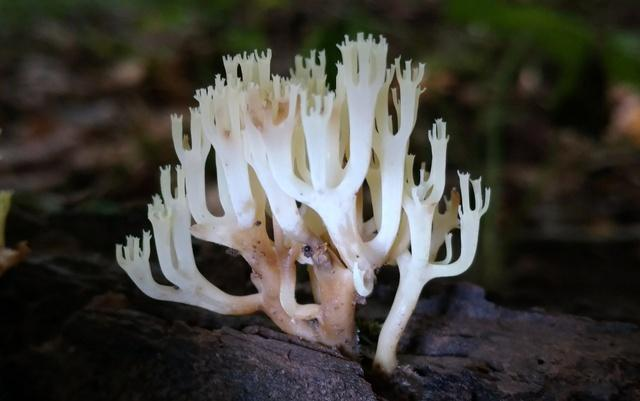edible_mushroom: (114, 30, 492, 378)
